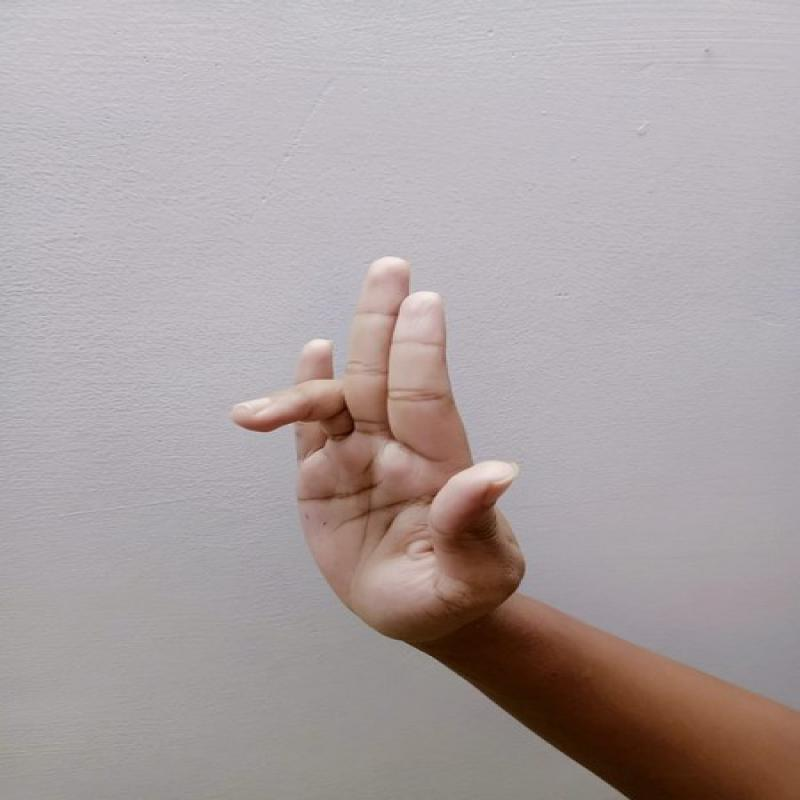Pathaaka: (201, 245, 557, 657)
